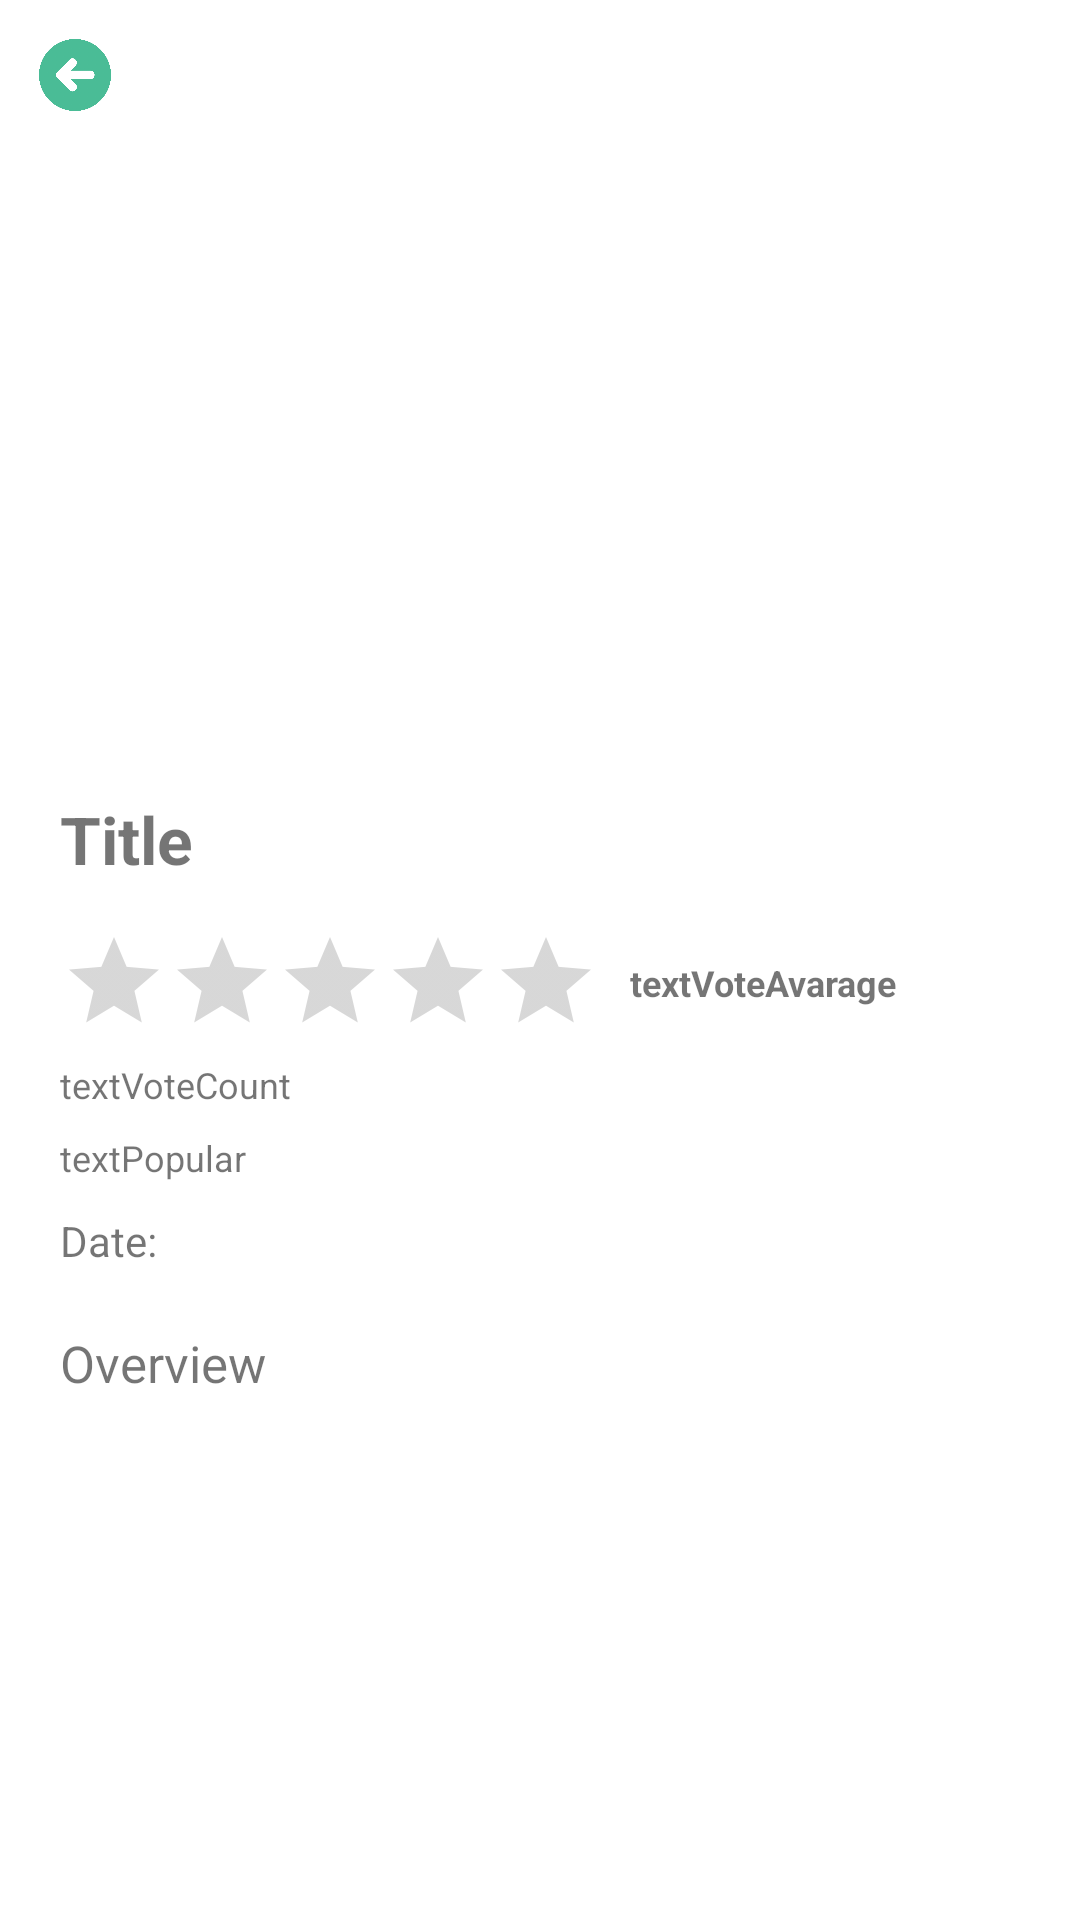

Named icons in this screenshot (1080×1920) and their bounding boxes, (x1, y1, x2, y2):
previous: (39, 39, 111, 111)
